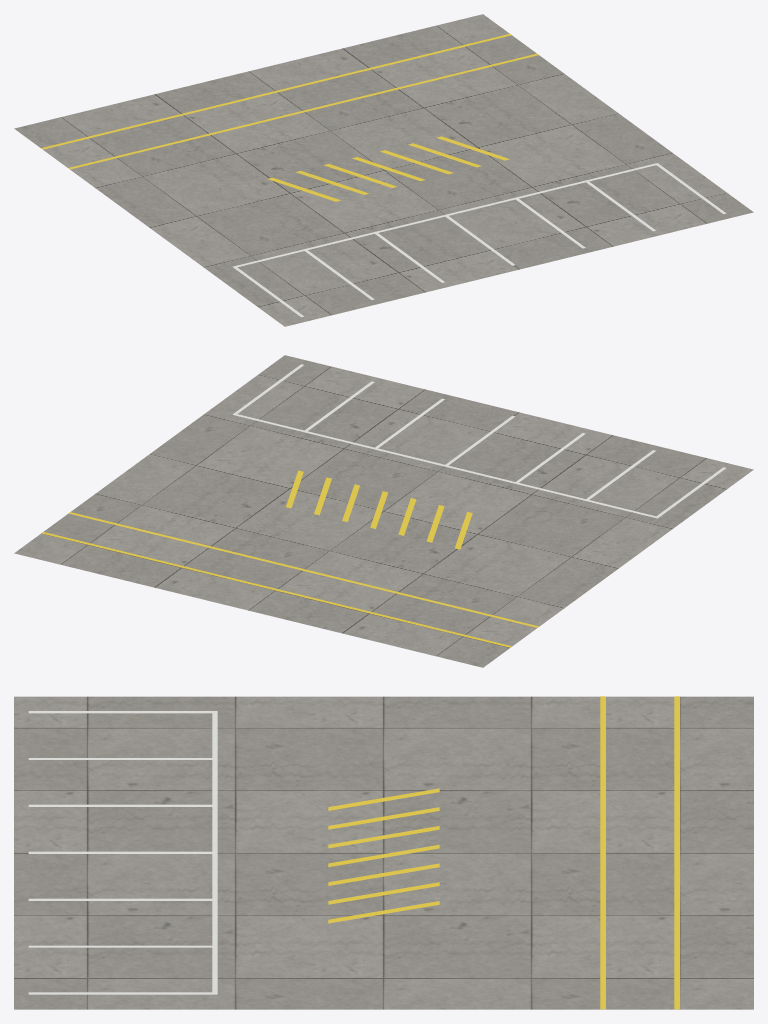
Rendered from ew-yard-lines.works-v1.lod0.glb.
3 views of the same model, one above another, from view 1: azimuth 30°, elevation 25°; view 2: azimuth 150°, elevation 25°; view 3: azimuth 270°, elevation 25° (orthographic). The views are drawn at different scales.
Parts seen in each view (by area): view 1: ew-yard-lines; view 2: ew-yard-lines; view 3: ew-yard-lines.
Part boxes in pixels (x1=…): ew-yard-lines: x1=14, y1=14, x2=753, y2=326; ew-yard-lines: x1=14, y1=355, x2=753, y2=667; ew-yard-lines: x1=14, y1=696, x2=753, y2=1009.
Bounding box in the file's own units: 20 × 0.00977 × 20.
Materials: 2 (1 with a texture image).
